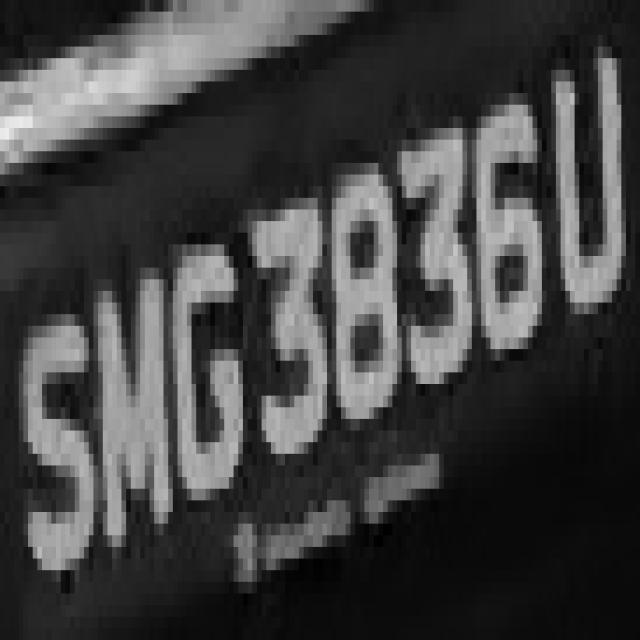3: (238, 186, 346, 489), (388, 104, 477, 360)
6: (476, 58, 546, 407)
8: (313, 151, 392, 477)
G: (163, 221, 243, 547)
M: (84, 256, 178, 570)
S: (0, 5, 1, 12)
U: (542, 11, 640, 338)
